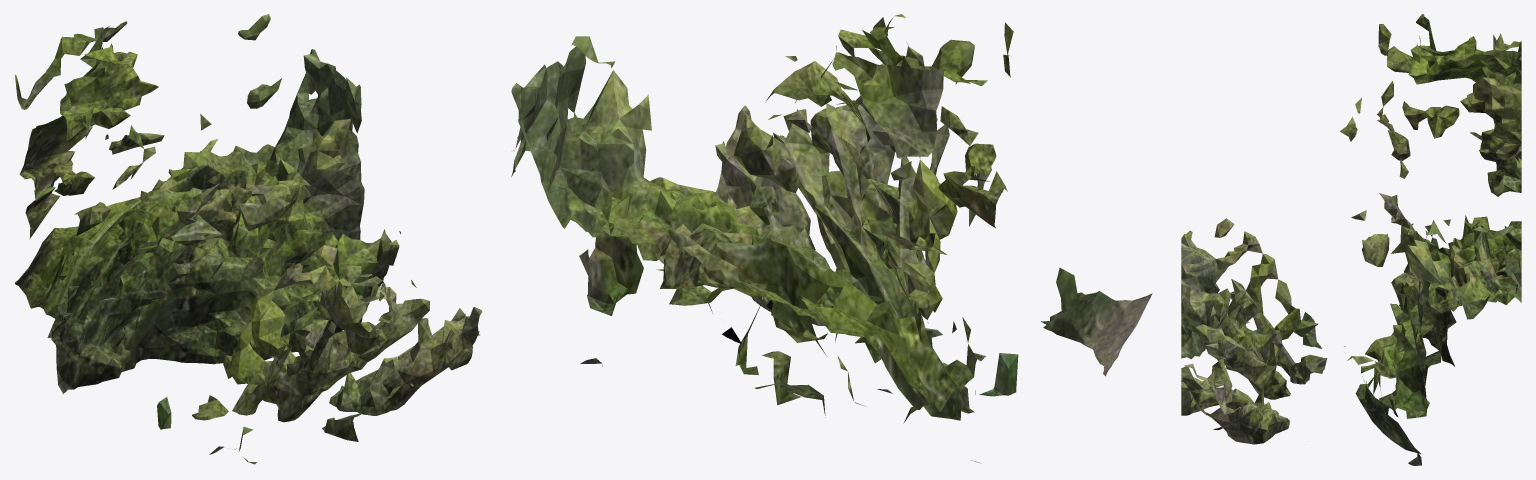
The picture shows the model from 3 angles, left to right: view 1: azimuth 30°, elevation 25°; view 2: azimuth 150°, elevation 25°; view 3: azimuth 270°, elevation 25°; orthographic projection. The views are drawn at different scales.
Bounding box in the file's own units: 11.8 × 11.8 × 11.8.
Materials: 7 (7 with a texture image).
